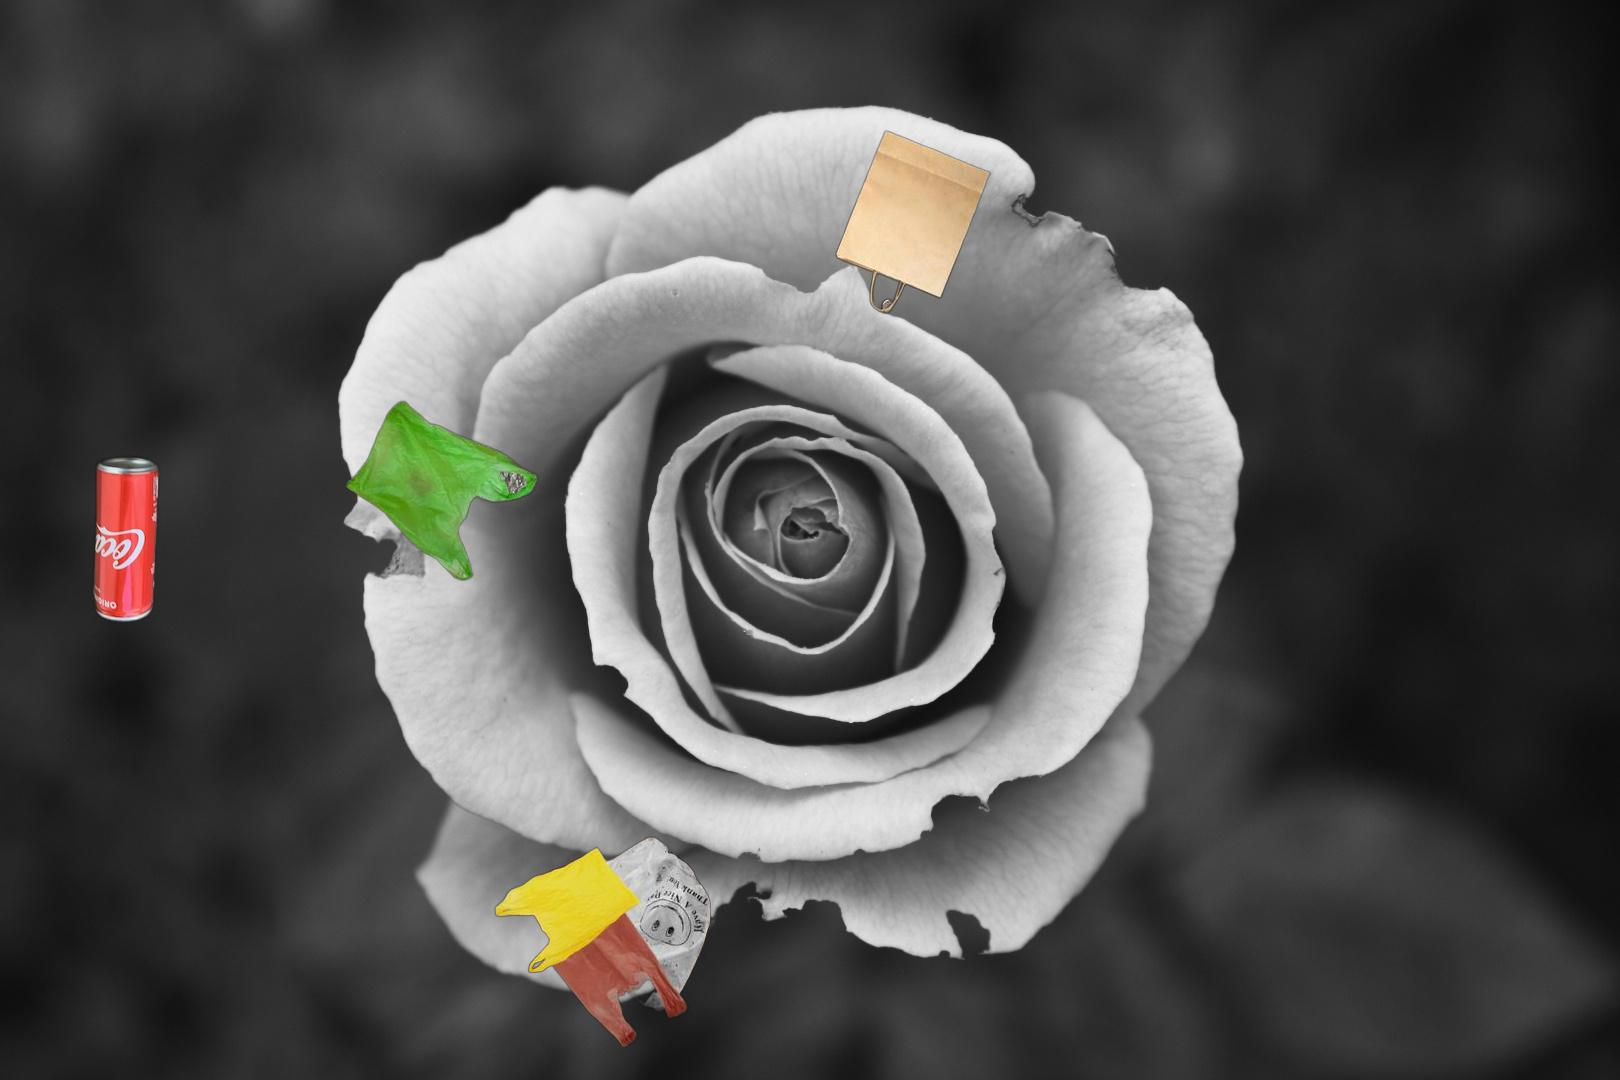metal-cans: (89, 451, 163, 629)
paper-bag: (833, 128, 993, 315)
plastic-bag: (492, 834, 714, 1050), (341, 398, 541, 583)
